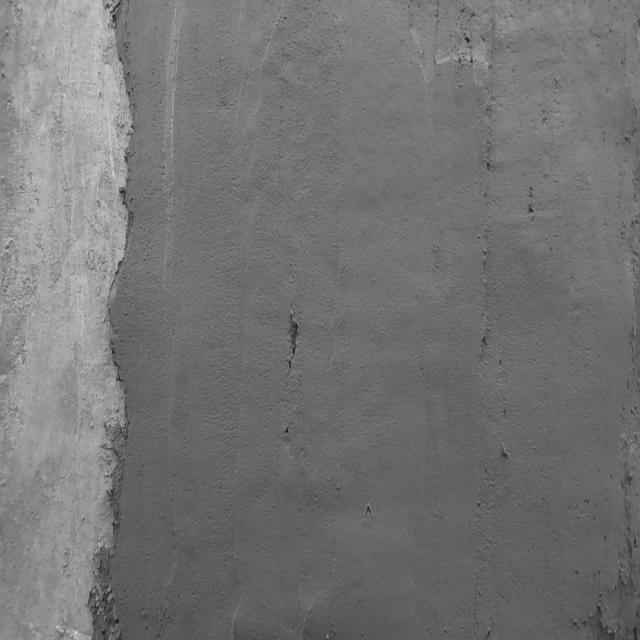trowels marks: (479, 16, 495, 362)
